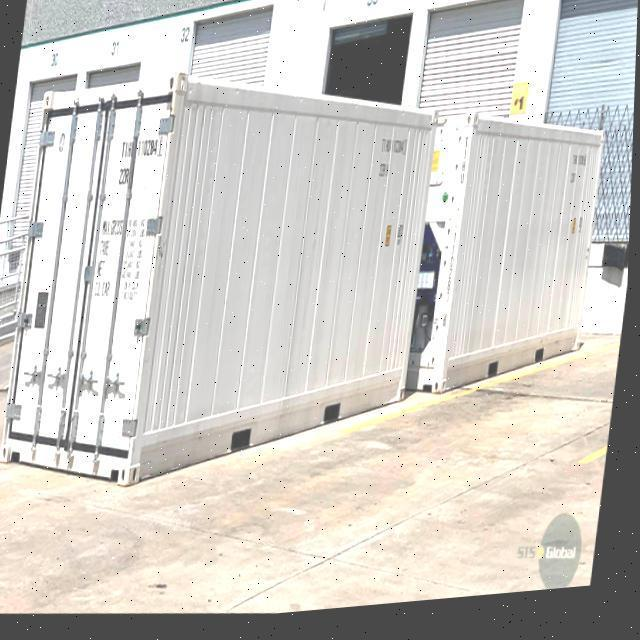container_number_h: (116, 136, 166, 195)
